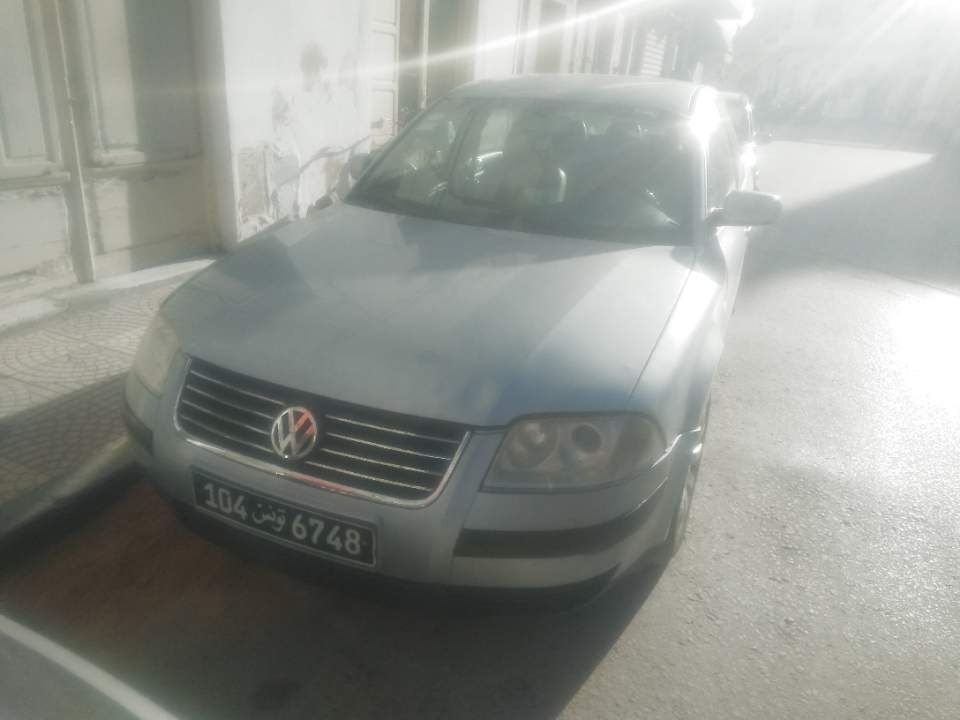LP: (188, 467, 378, 564)
